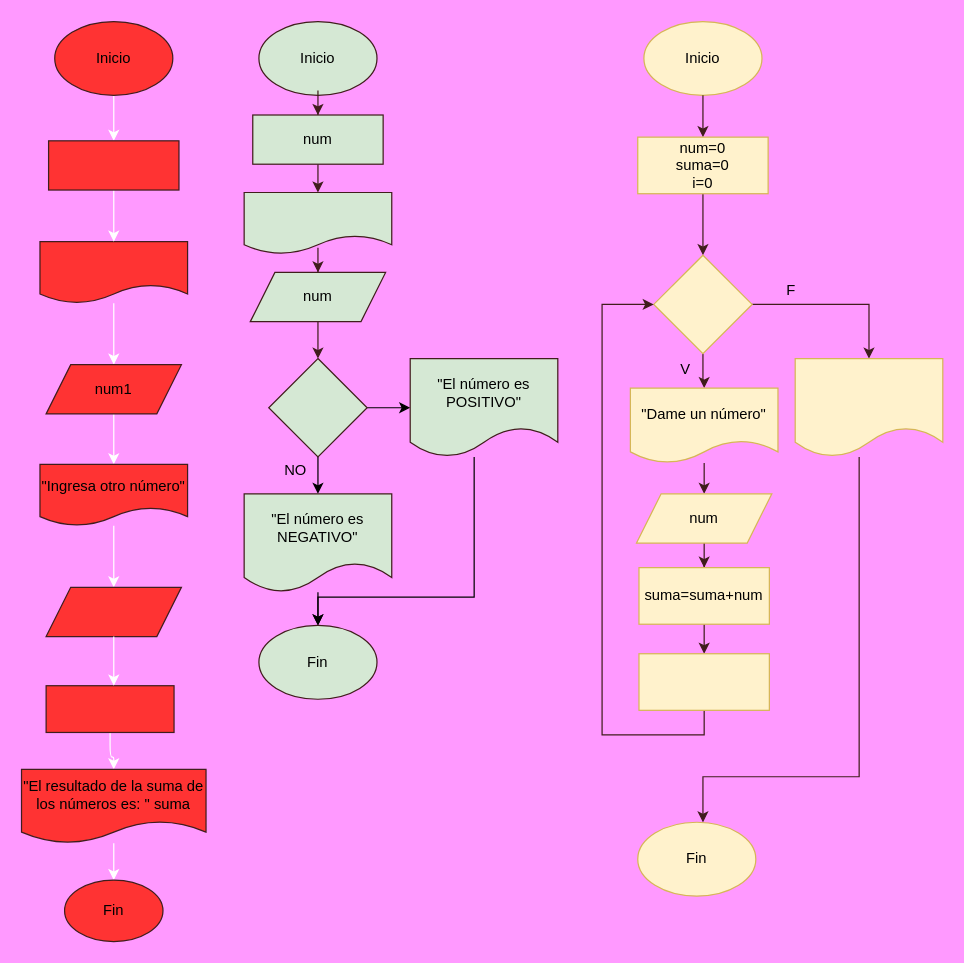
The diagram is 964 pixels wide and 963 high, and some of its shapes have lost their labels. The centre of each missing label's shape, as x and y in pixels:
"El resultado de la suma es ", suma: point (868, 407)
"Ingresa un número diferente de cero": point (317, 222)
"Ingresa un número": point (113, 271)
i<=10: point (702, 304)
i=i+1: point (703, 681)
num1,num2,suma: point (113, 165)
num2: point (113, 611)
num>0: point (317, 407)
suma=num1+num2: point (109, 708)
